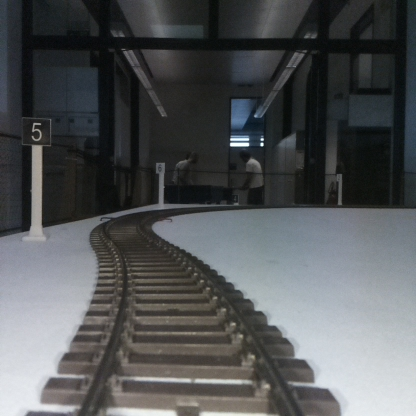black-info-5: (22, 118, 50, 239)
white-info-6: (156, 162, 164, 208)
